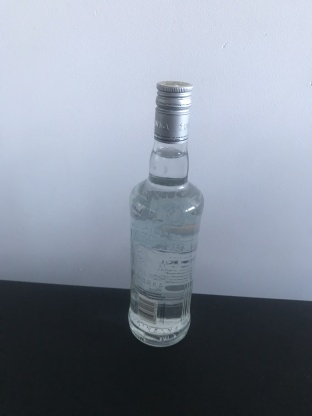nakretka: (152, 78, 194, 145)
